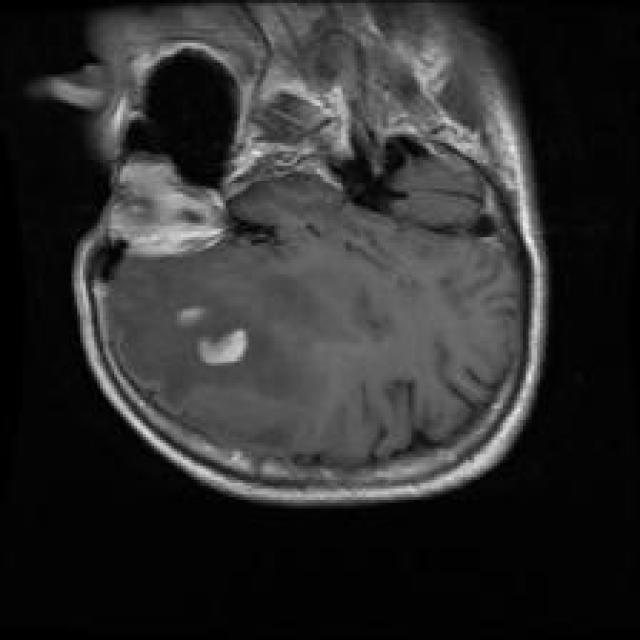glioma_tumor: (131, 276, 285, 406)
